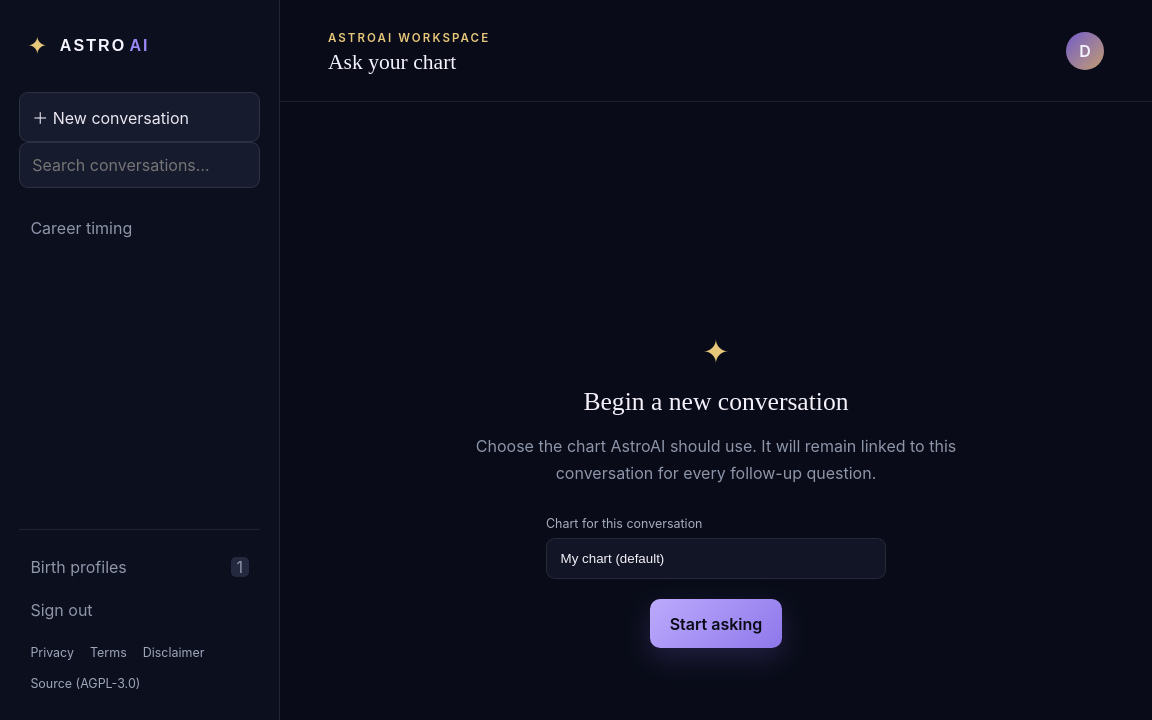
it: AstroAI frontend foundation › copies an assistant answer to the clipboard
Click the button "Career timing": [108, 228] box x1=19 y1=207 x2=196 y2=250
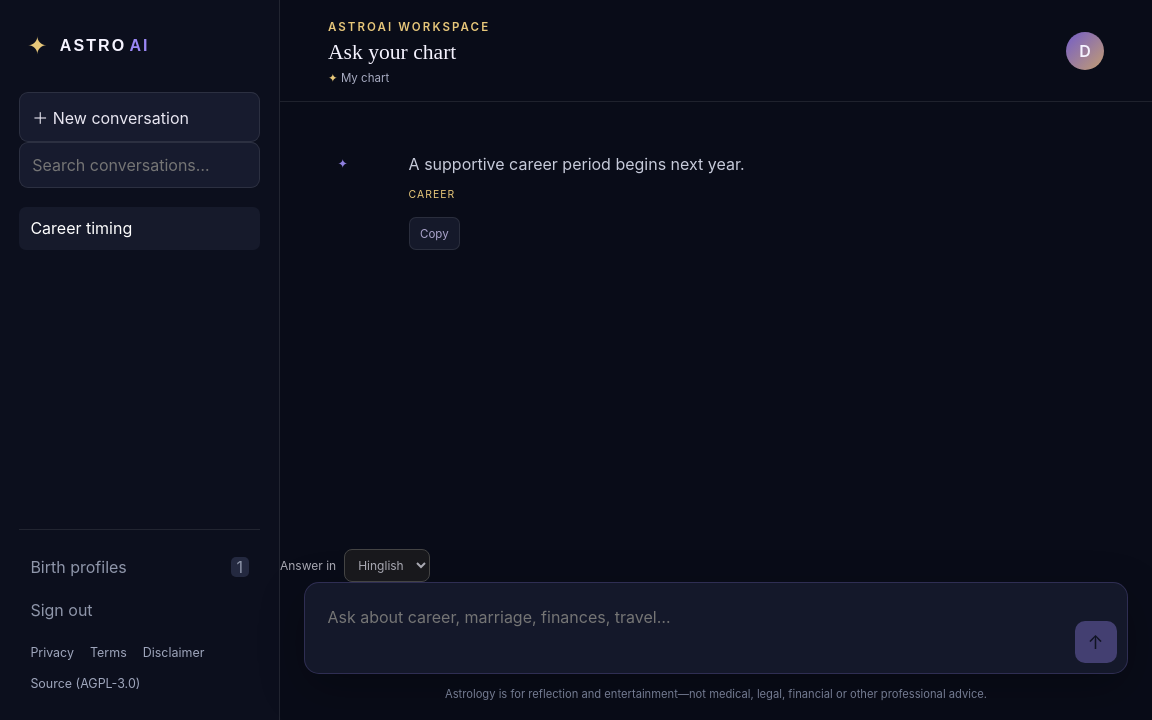
Click the button with aria-label "Copy answer": [434, 234] box x1=409 y1=217 x2=460 y2=250
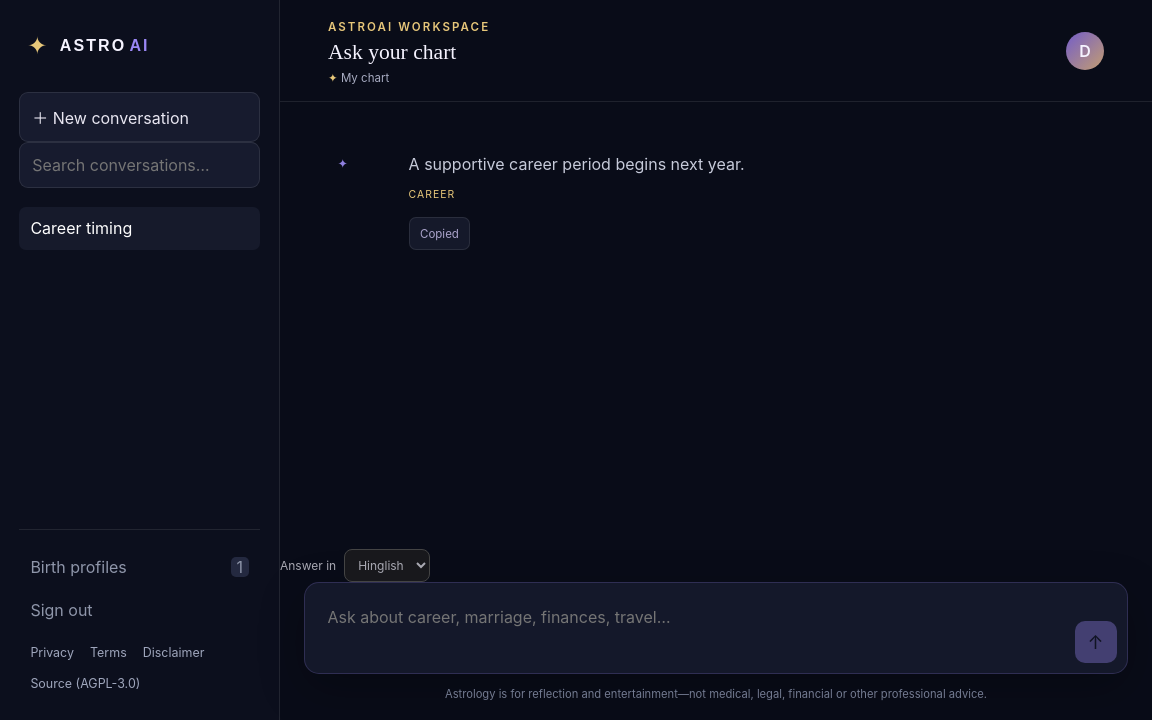
Result: the button with aria-label "Copy answer" reads "Copied" at x1=409 y1=217 x2=470 y2=250
